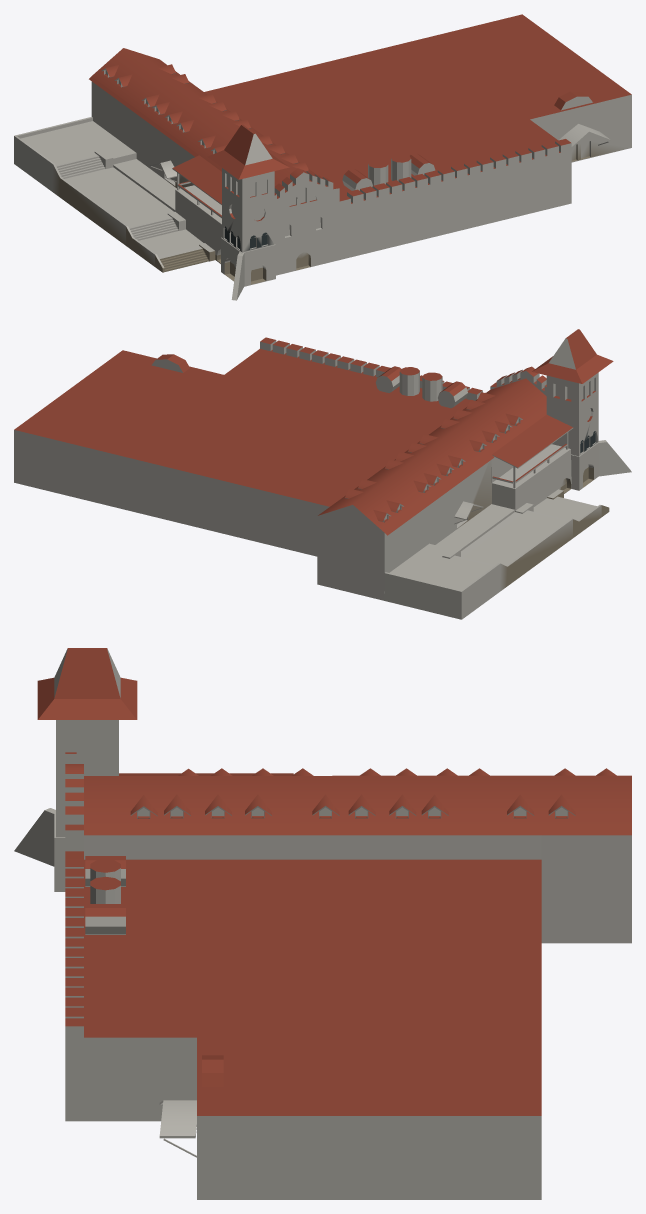
The picture shows the model from 3 angles, top to bottom: view 1: azimuth 30°, elevation 25°; view 2: azimuth 150°, elevation 25°; view 3: azimuth 270°, elevation 25°; orthographic projection. The views are drawn at different scales.
Visible parts, largest first — view 1: polySurface35:PIV; view 2: polySurface35:PIV; view 3: polySurface35:PIV.
Part boxes in pixels (left/top/right/bottom): polySurface35:PIV: left=14, top=14, right=631, bottom=300; polySurface35:PIV: left=14, top=329, right=631, bottom=619; polySurface35:PIV: left=14, top=648, right=631, bottom=1199.
Size of the model in its own units: 61.43 by 17.91 by 43.59.
